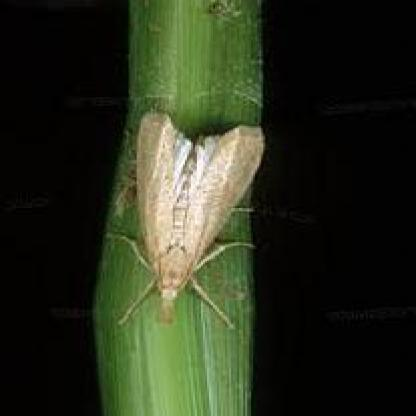stem-borer: (127, 106, 252, 319)
